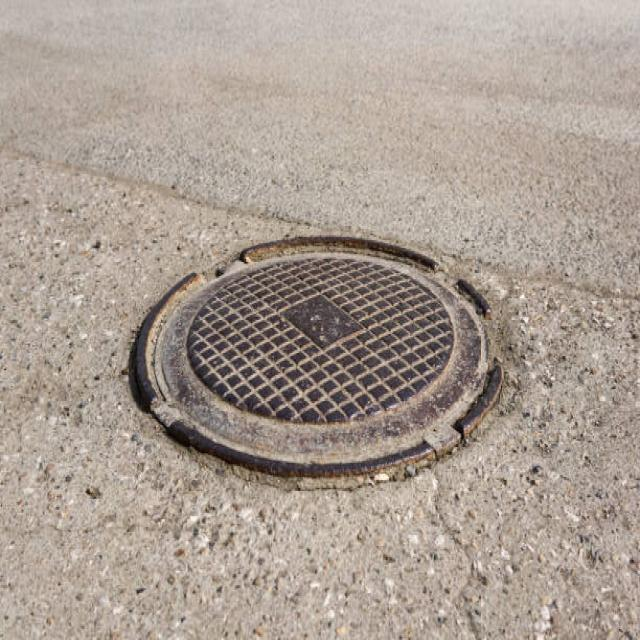Good: (113, 228, 511, 496)
